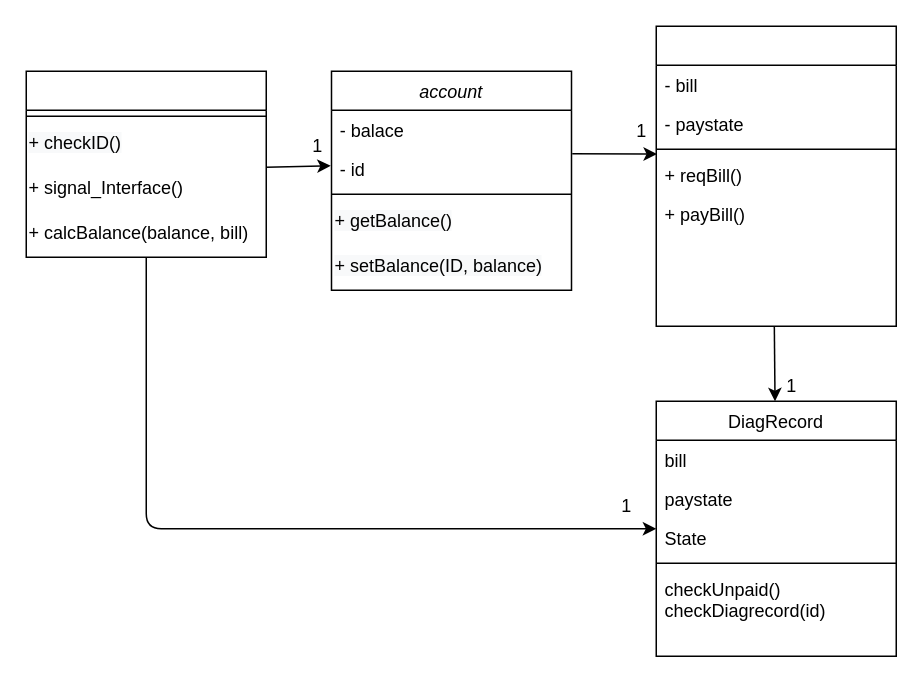
Some shapes in this 923 by 687 pixel diagram are drawn without their labels. Here are the shapes that lost their labels. From the top down, the box of each, then its label:
(25, 70, 266, 257): controller
(655, 25, 896, 326): DsysConnection
